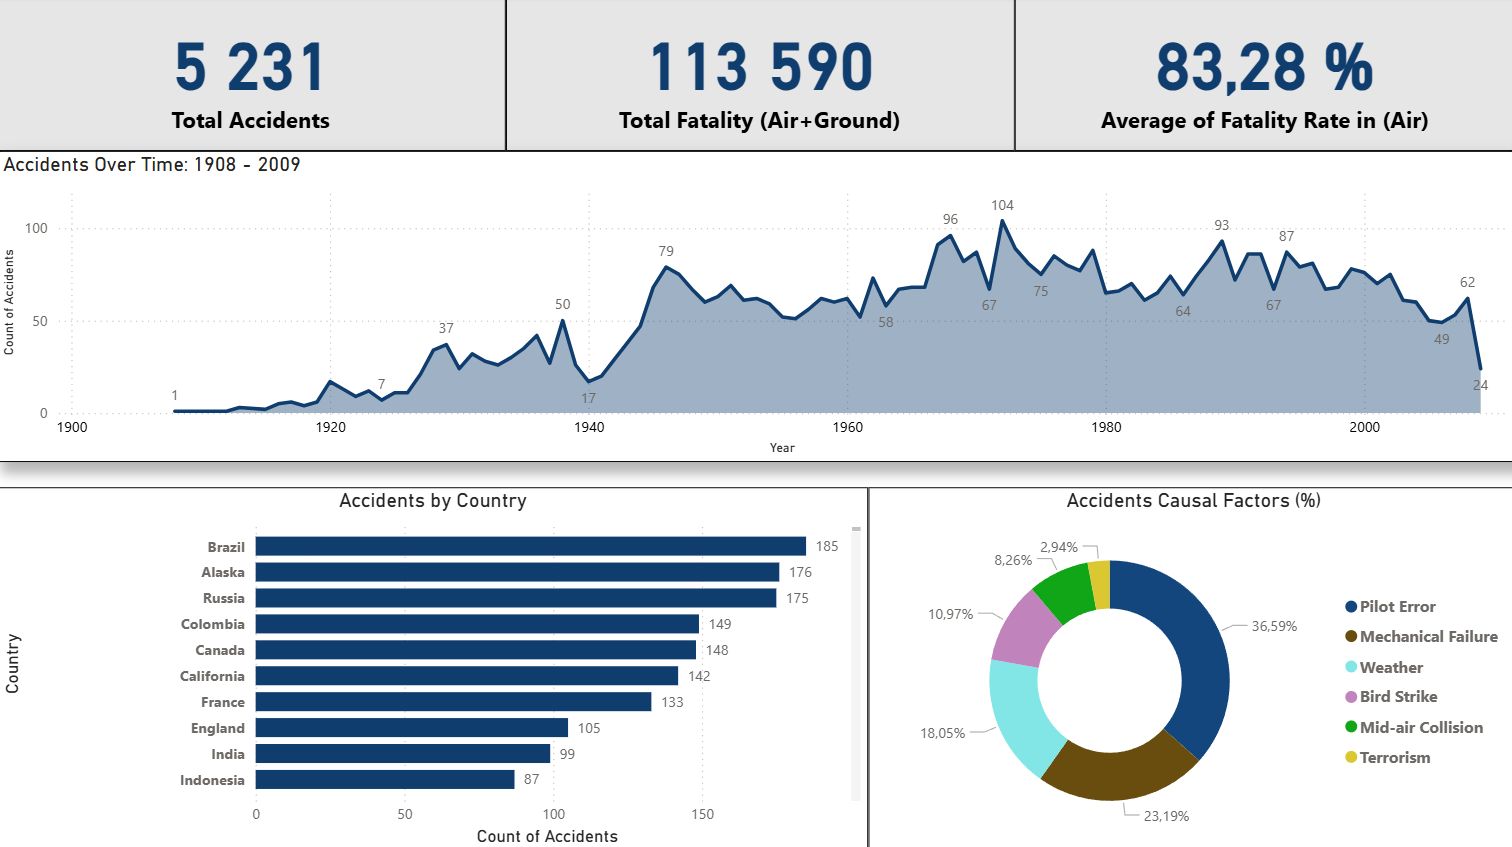

Layout of this report page (visuals, bound fields, positions):
{"tool":"powerbi","page":{"name":"Dashboard Overview","canvas":[1280,720],"ordinal":2},"visuals":[{"type":"card","fields":{"Values":["CountNonNull(Airplane Crashes.Date)"]},"box":[0,0,429.1,130.2],"z":0},{"type":"card","fields":{"Values":["Sum(Airplane Crashes.Total Fatalities)"]},"box":[429.1,0,427.9,130.2],"z":1000},{"type":"card","fields":{"Values":["Avg(Airplane Crashes.Fatality Rate)"]},"box":[857,0,422.1,130.2],"z":2000},{"type":"lineChart","title":"Accidents Over Time: 1908 - 2009","fields":{"Y":["CountNonNull(Airplane Crashes.Date)"],"Category":["Airplane Crashes.Year"]},"box":[0,130.2,1279.1,261.6],"z":3000},{"type":"barChart","title":"Accidents by Country","fields":{"Y":["CountNonNull(Airplane Crashes.Date)"],"Category":["Airplane Crashes.Country"]},"box":[0,412.8,733.7,308.1],"z":4000},{"type":"donutChart","title":"Accidents Causal Factors (%)","fields":{"Y":["CountNonNull(Airplane Crashes.Year)"],"Category":["Airplane Crashes.CauseType"]},"box":[733.7,412.8,545.4,307],"z":5000}]}

Visuals, with their boxes in screenshot pixels (x1, y1, x2, y2), scaled from the page's 1280x720 canvas onto the 1512x847 screenshot:
card - CountNonNull(Airplane Crashes.Date): locate(0, 0, 507, 153)
card - Sum(Airplane Crashes.Total Fatalities): locate(507, 0, 1012, 153)
card - Avg(Airplane Crashes.Fatality Rate): locate(1012, 0, 1511, 153)
"Accidents Over Time: 1908 - 2009" lineChart: locate(0, 153, 1511, 461)
"Accidents by Country" barChart: locate(0, 486, 867, 846)
"Accidents Causal Factors (%)" donutChart: locate(867, 486, 1511, 846)
